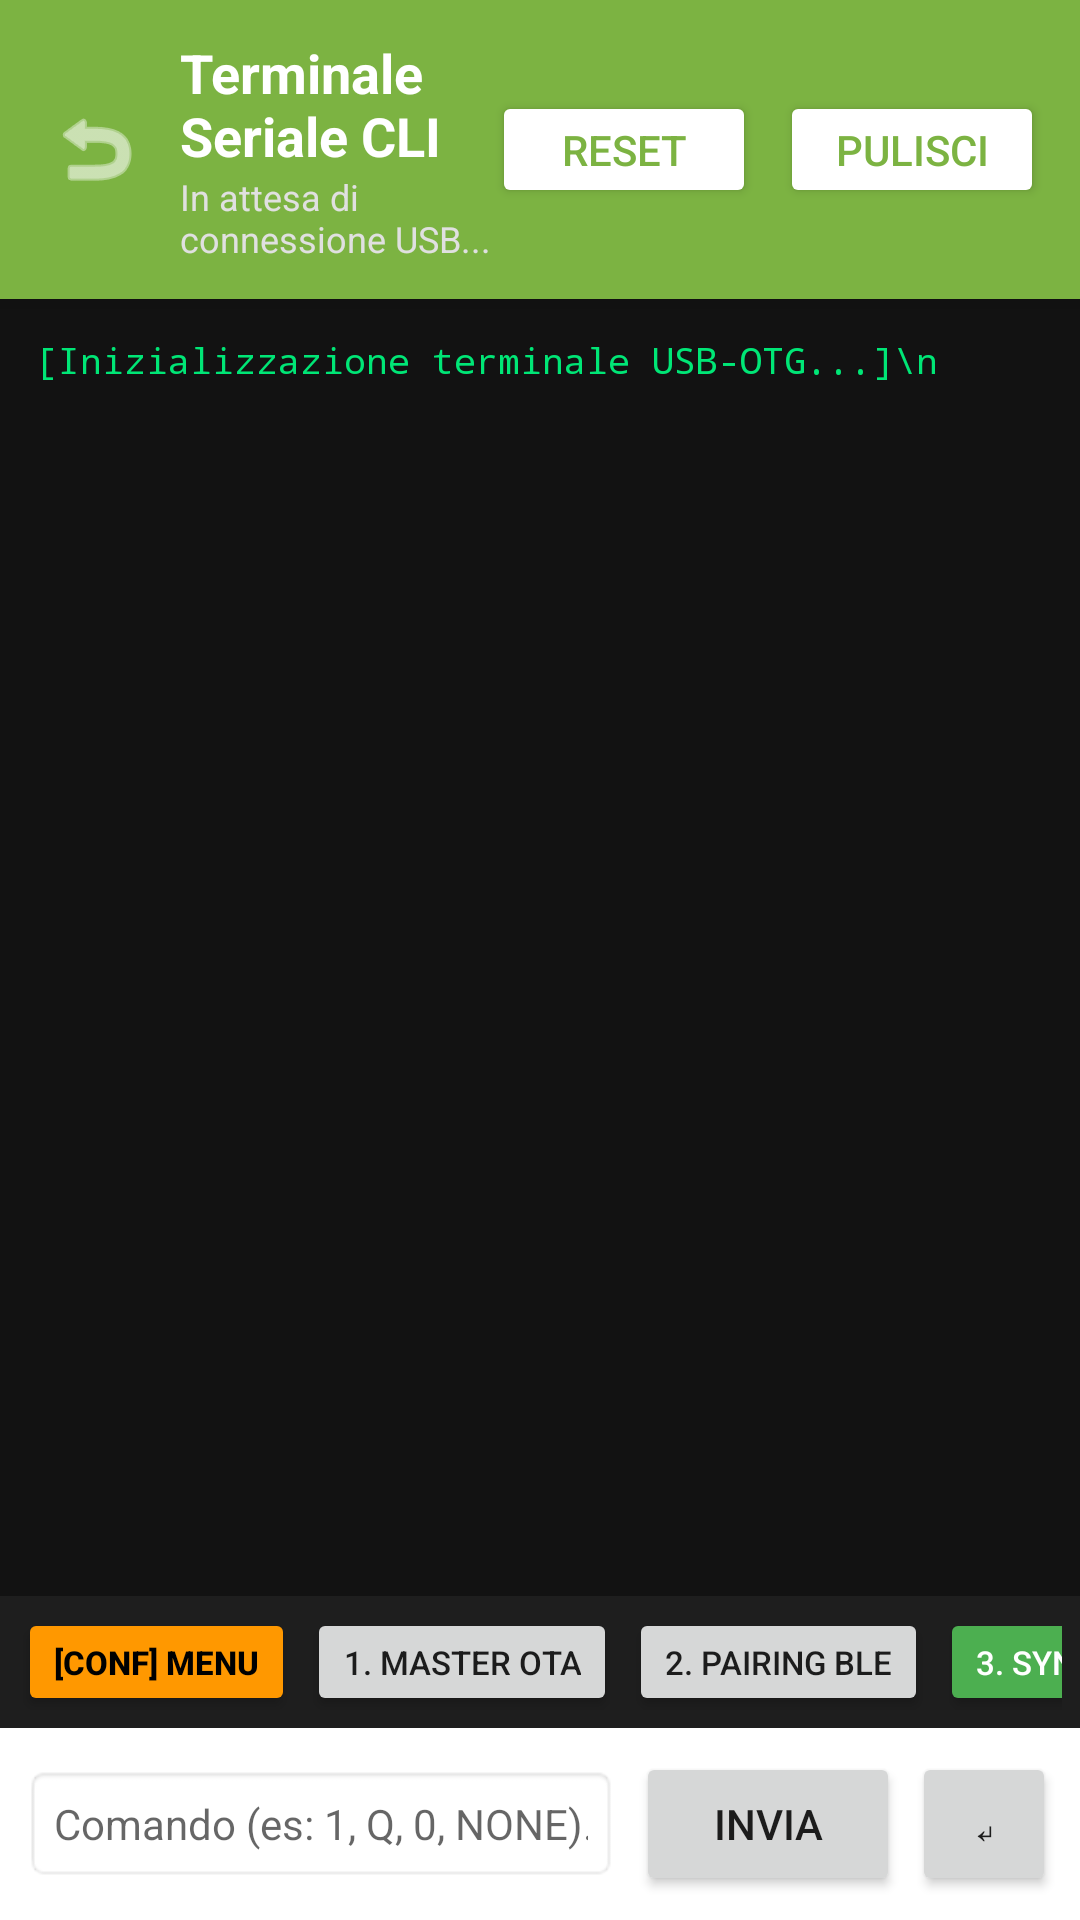

Named icons in this screenshot (1080×1920) and their centers, [x,y]:
Torna indietro: [97,149]
